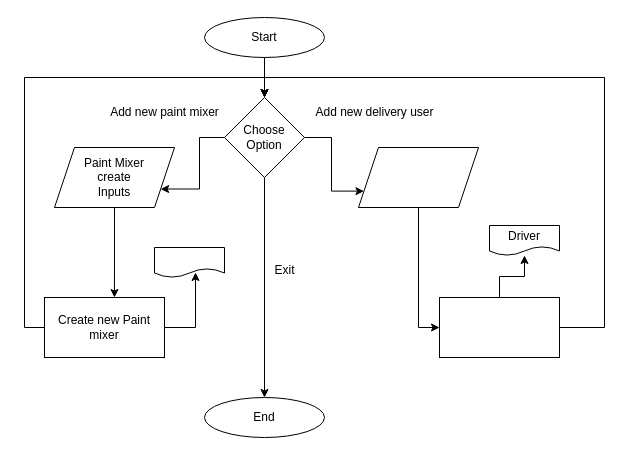
Image size: 630x455. Some labels were removed from this diagram. The box of each missing label's shape, as (x1, y1, x2, y2) in pixels:
Delivery User Register Inputs: (358, 146, 478, 208)
paints: (154, 246, 224, 278)
Register: (438, 296, 560, 358)
